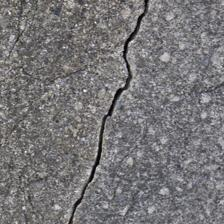Crack: (33, 1, 120, 221)
